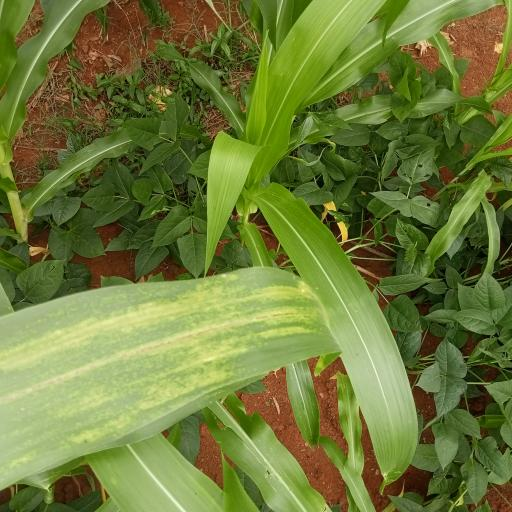Corn_Brown_Spots: (0, 263, 336, 484)
